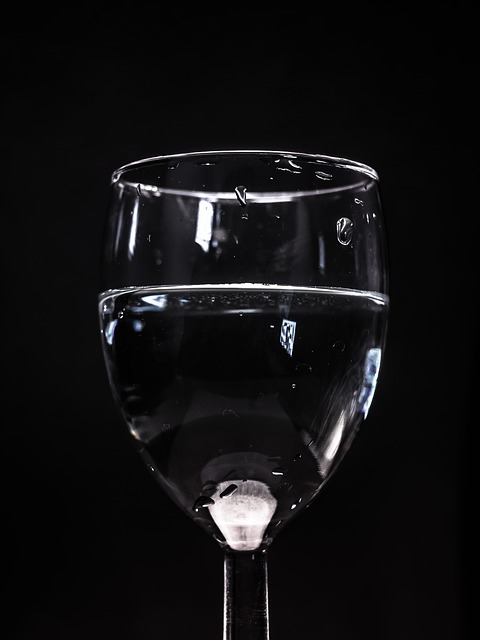glass of water: (134, 179, 395, 616)
